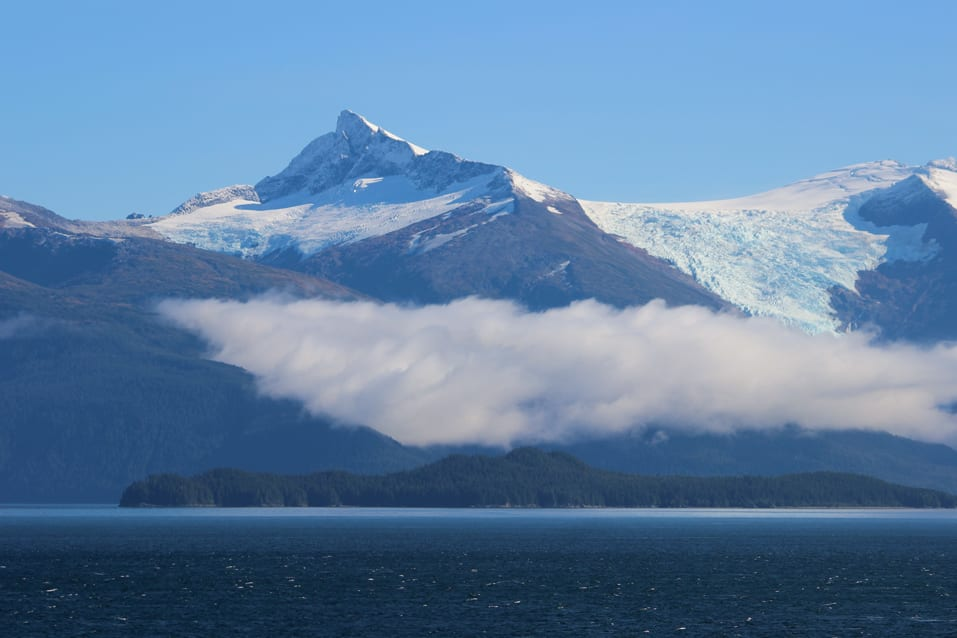Stratus: (186, 277, 957, 445)
